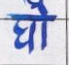au_matra: (27, 0, 52, 49)
